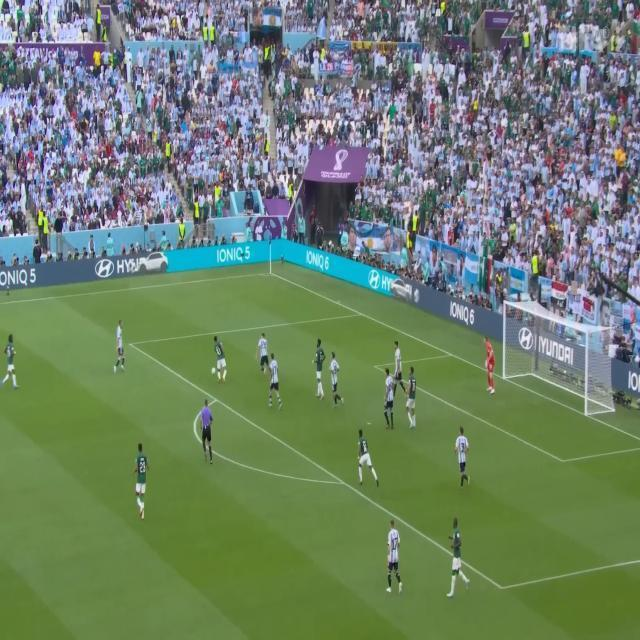player: (380, 510, 407, 603), (352, 423, 383, 496), (446, 516, 472, 602), (133, 438, 151, 528), (310, 332, 328, 404), (456, 423, 474, 493), (2, 326, 19, 397), (379, 368, 397, 435), (327, 345, 345, 410), (481, 336, 498, 402), (402, 367, 420, 429), (212, 328, 230, 388), (266, 348, 283, 410), (392, 339, 407, 409), (112, 322, 128, 375), (255, 330, 271, 382)
